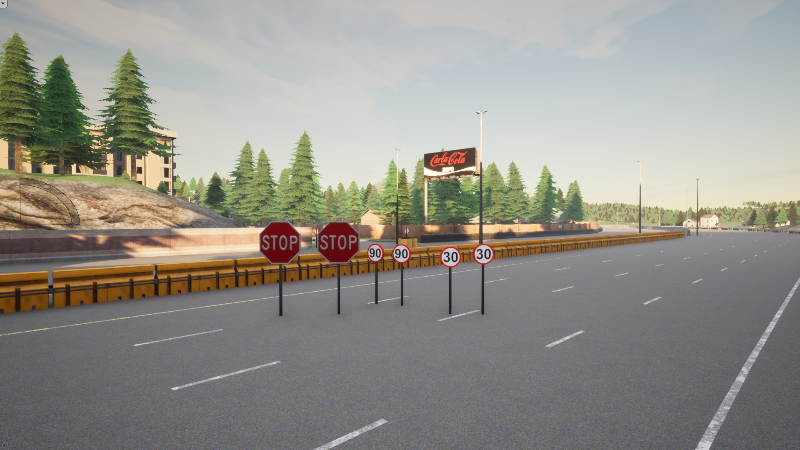fast: (392, 245, 411, 264), (367, 244, 384, 263)
slow: (440, 246, 461, 267), (473, 244, 494, 265)
stop: (260, 221, 300, 264), (318, 222, 359, 263)
